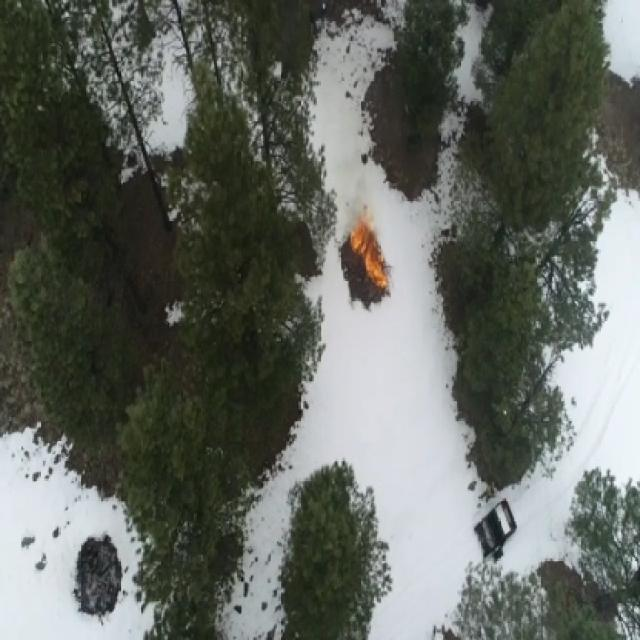Fire: (348, 203, 390, 292)
